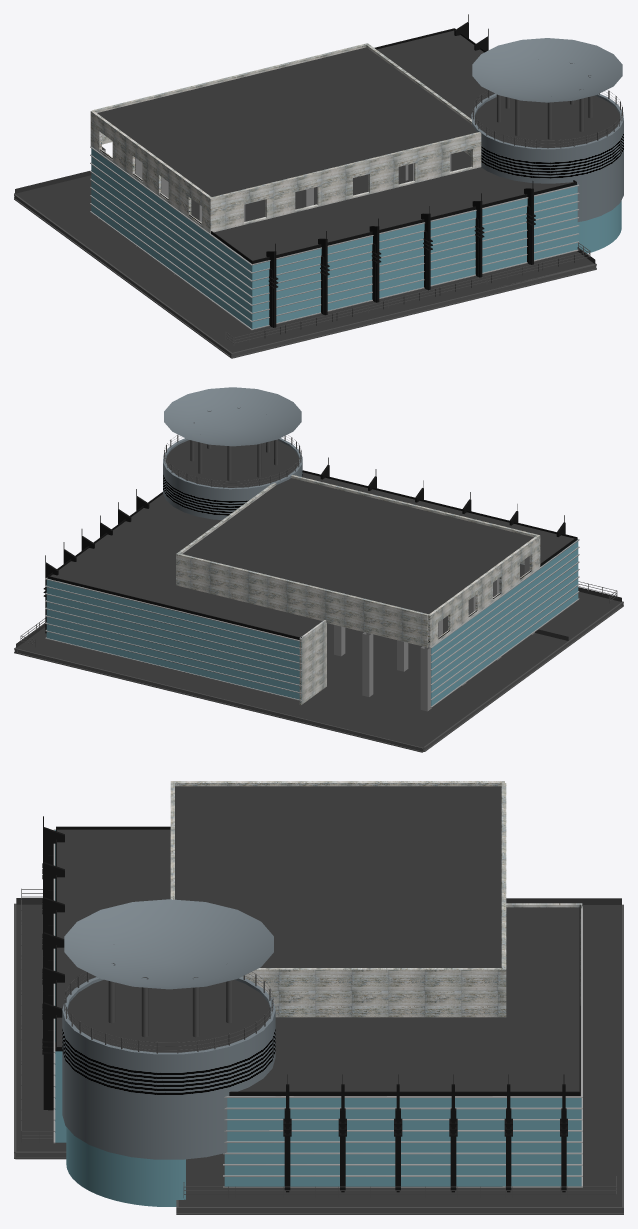
File: office2_top.FBX
3 views of the same model, one above another, from view 1: azimuth 30°, elevation 25°; view 2: azimuth 150°, elevation 25°; view 3: azimuth 270°, elevation 25° (orthographic). The views are drawn at different scales.
Parts seen in each view (by area): view 1: top, structure, glass, walls, columns; view 2: top, structure, glass, walls, columns; view 3: top, structure, glass, walls.
Boxes of the visible parts, x1,y1,x2,y2 form: top: (15, 30, 620, 352); structure: (14, 14, 623, 358); glass: (91, 148, 621, 328); walls: (90, 43, 481, 233); columns: (93, 147, 451, 301); top: (16, 440, 621, 747); structure: (14, 387, 623, 752); glass: (46, 539, 578, 706); walls: (176, 475, 540, 704); columns: (127, 556, 534, 711); top: (16, 786, 621, 1206); structure: (14, 816, 623, 1214); glass: (55, 830, 581, 1206); walls: (170, 781, 582, 1017).
Size of the model in its own units: 7175 by 2410 by 6082.
